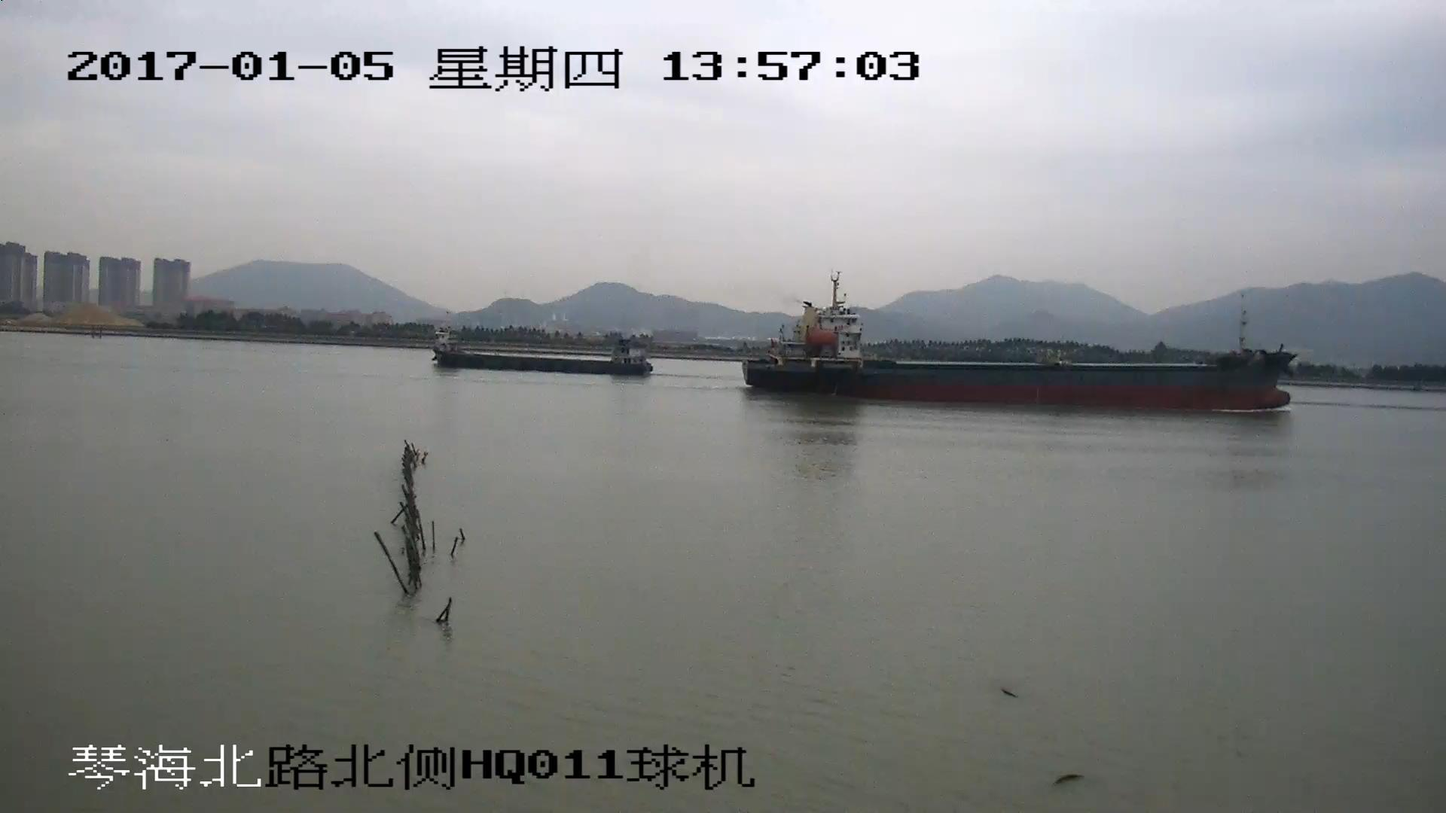general cargo ship: (739, 276, 1292, 413), (433, 325, 651, 376)
